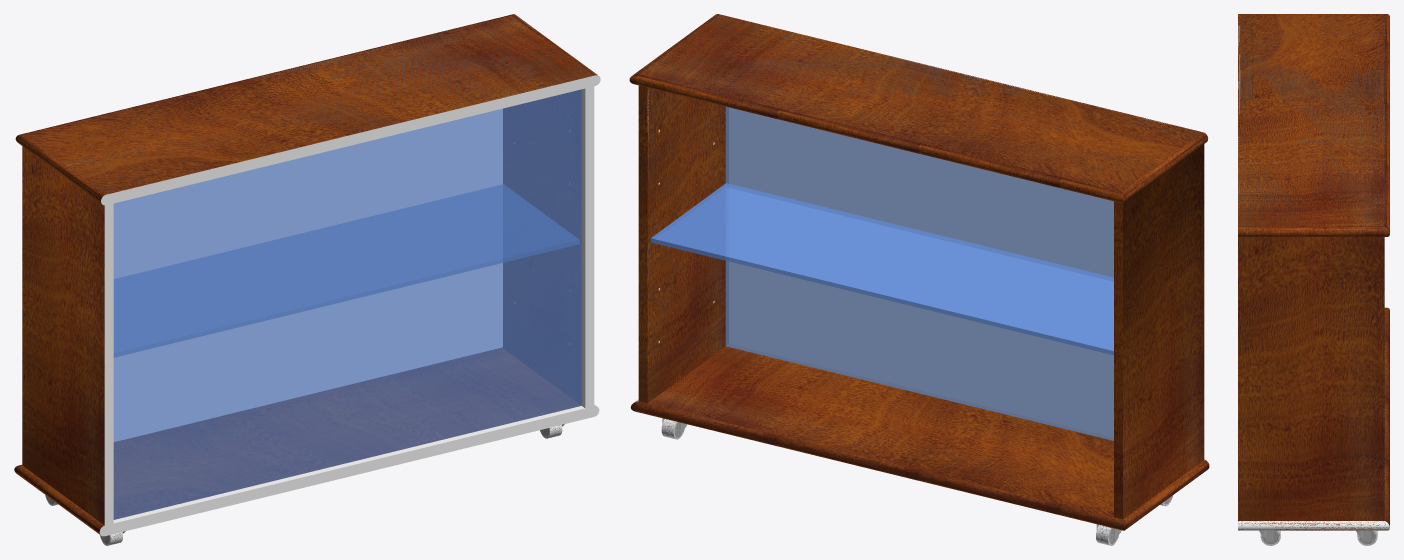
3 renders of one model, left to right at view 1: azimuth 30°, elevation 25°; view 2: azimuth 150°, elevation 25°; view 3: azimuth 270°, elevation 25°, orthographic. The views are drawn at different scales.
Parts seen in each view (by area): view 1: mesh14_mesh14-geometry, mesh15_mesh15-geometry; view 2: mesh14_mesh14-geometry, mesh15_mesh15-geometry, mesh2_mesh2-geometry; view 3: mesh14_mesh14-geometry, mesh2_mesh2-geometry, mesh3_mesh3-geometry.
Boxes of the visible parts, x1,y1,x2,y2 form: mesh14_mesh14-geometry: (14, 14, 600, 536); mesh15_mesh15-geometry: (114, 185, 578, 356); mesh14_mesh14-geometry: (629, 14, 1209, 530); mesh15_mesh15-geometry: (650, 183, 1113, 355); mesh2_mesh2-geometry: (661, 419, 1171, 545); mesh14_mesh14-geometry: (1238, 14, 1389, 530); mesh2_mesh2-geometry: (1260, 530, 1377, 545); mesh3_mesh3-geometry: (1259, 530, 1370, 541).
Size of the model in its own units: 0.7955 by 0.5587 by 0.2348.
